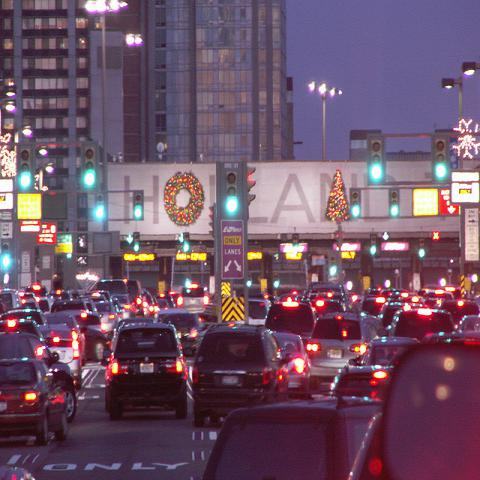car: (0, 270, 479, 479), (203, 396, 386, 479), (190, 322, 290, 428), (105, 316, 188, 420), (0, 359, 69, 446), (307, 311, 370, 386), (39, 321, 84, 388), (56, 308, 108, 362), (272, 336, 316, 398), (264, 301, 316, 344), (157, 308, 198, 356), (390, 307, 455, 337), (175, 284, 210, 314), (0, 289, 23, 314)
